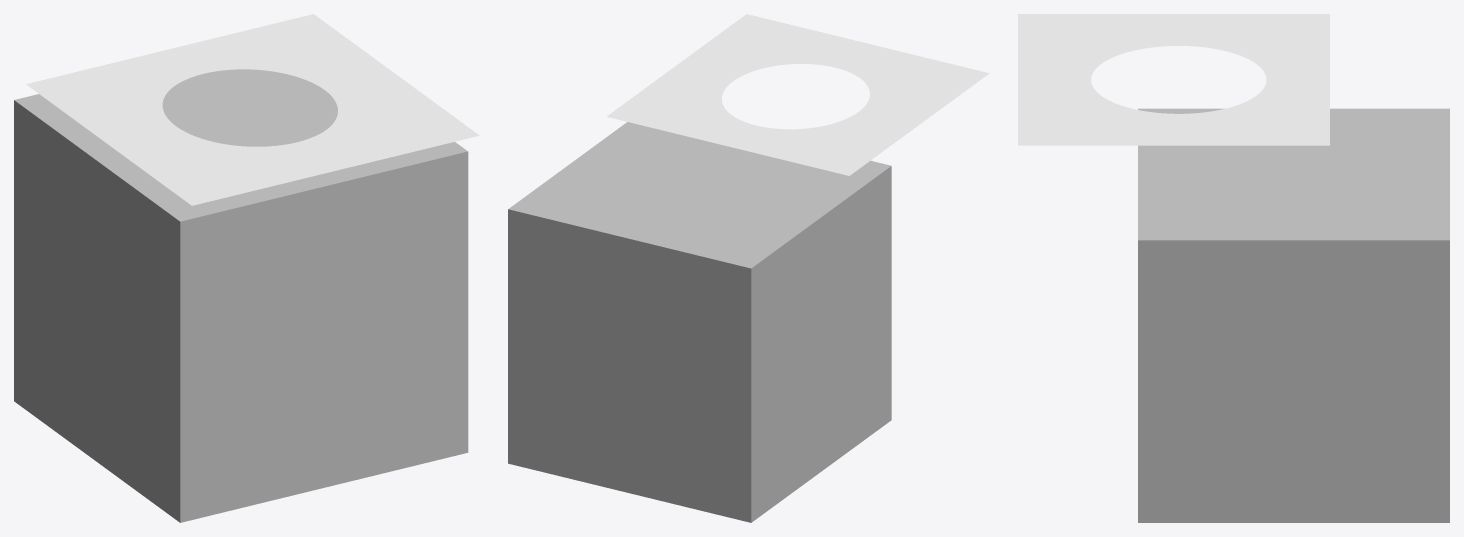
Rendered from alpha-plane.obj.
3 views of the same model, side by side, from view 1: azimuth 30°, elevation 25°; view 2: azimuth 150°, elevation 25°; view 3: azimuth 270°, elevation 25° (orthographic). The views are drawn at different scales.
Parts seen in each view (by area): view 1: Cube, Plane; view 2: Cube, Plane; view 3: Cube, Plane.
Boxes of the visible parts, <box> form: Cube: <box>14,69,468,522</box>; Plane: <box>26,14,479,205</box>; Cube: <box>508,122,891,522</box>; Plane: <box>606,14,989,175</box>; Cube: <box>1138,108,1449,522</box>; Plane: <box>1018,14,1329,145</box>.
Size of the model in its own units: 2.36 by 2.5 by 2.77.
2 materials, 1 textured.
